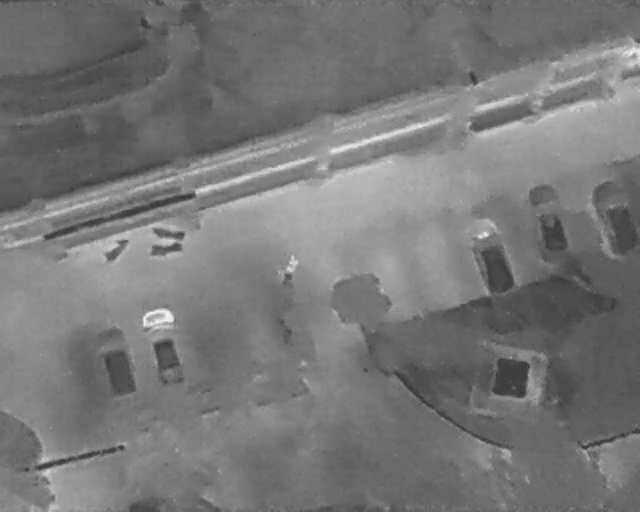Bicycle: (98, 229, 133, 268), (146, 238, 184, 259), (150, 223, 186, 243)
Car: (460, 212, 521, 300), (138, 305, 190, 390), (523, 177, 574, 262), (90, 322, 140, 400), (592, 178, 639, 259)
Person: (281, 252, 303, 279)
